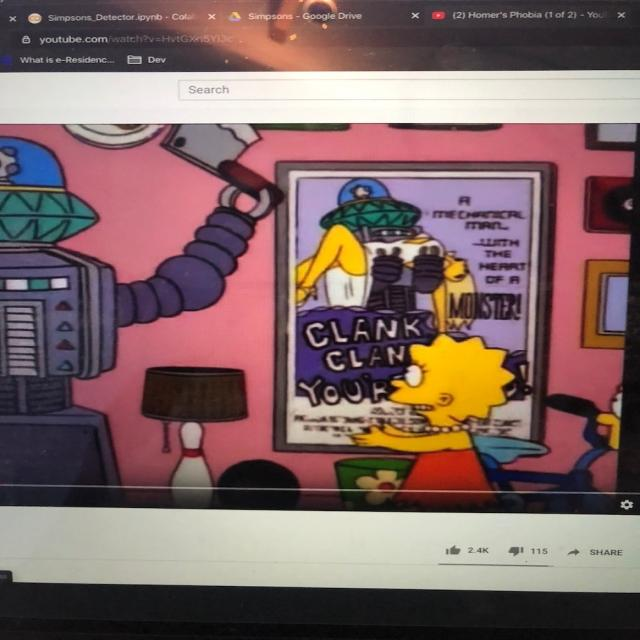Lisa Simpson: (383, 330, 521, 436)
